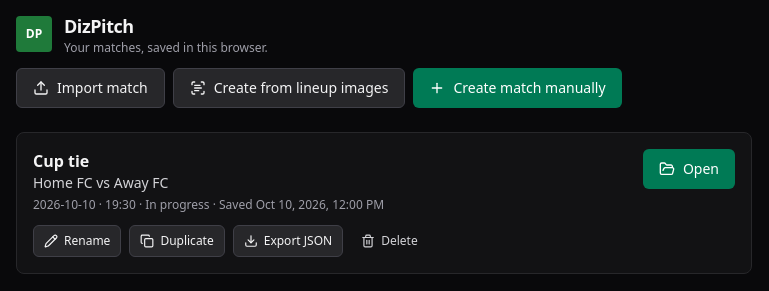
Test: library › renames a match and persists the new name
Click the button with aria-label "Rename Cup tie".
click(77, 241)  # box [33, 225, 121, 257]
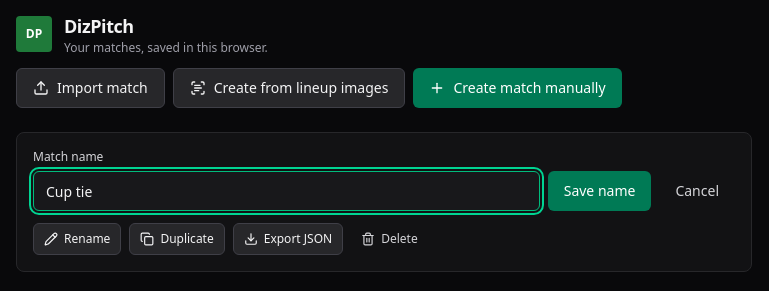
Replace the text in the field labelled "Match name" with "Final" at (286, 191), box [33, 171, 540, 211]
Then press Enter
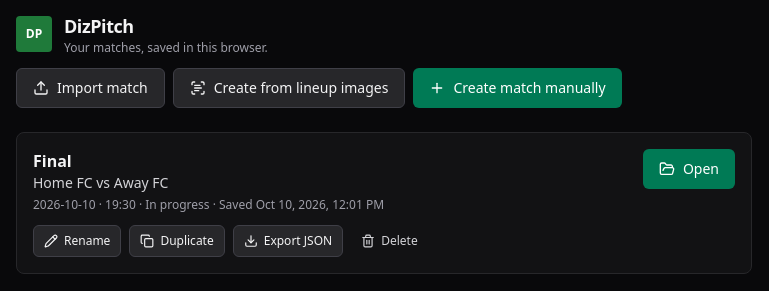
Now the element "Final" is shown, box [16, 132, 752, 274]
Now the heading "Final" is shown, box [33, 150, 72, 172]
